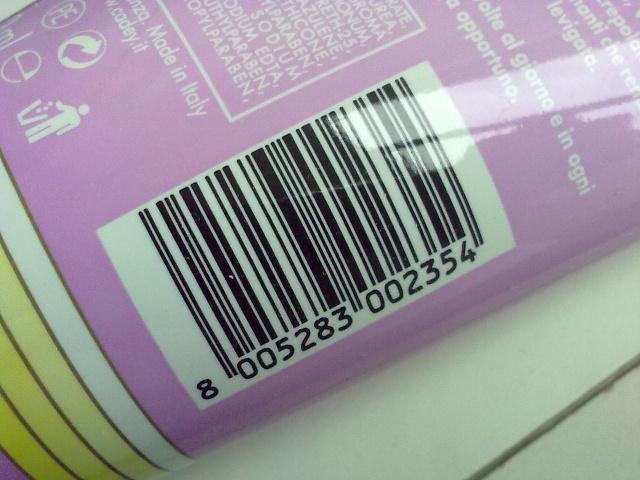Barcode: (137, 71, 487, 413)
